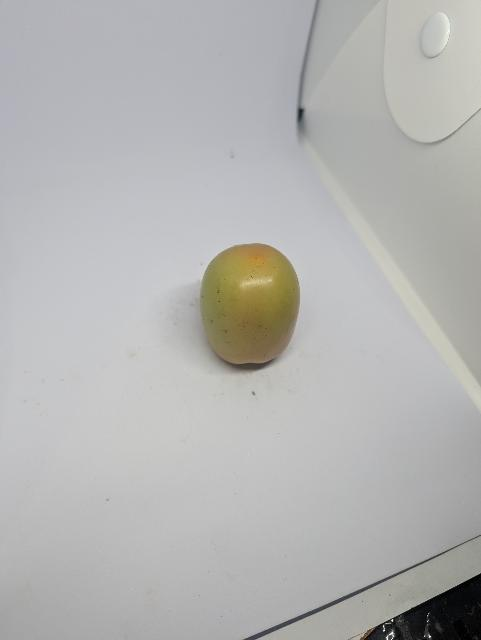breaker: (199, 241, 302, 370)
